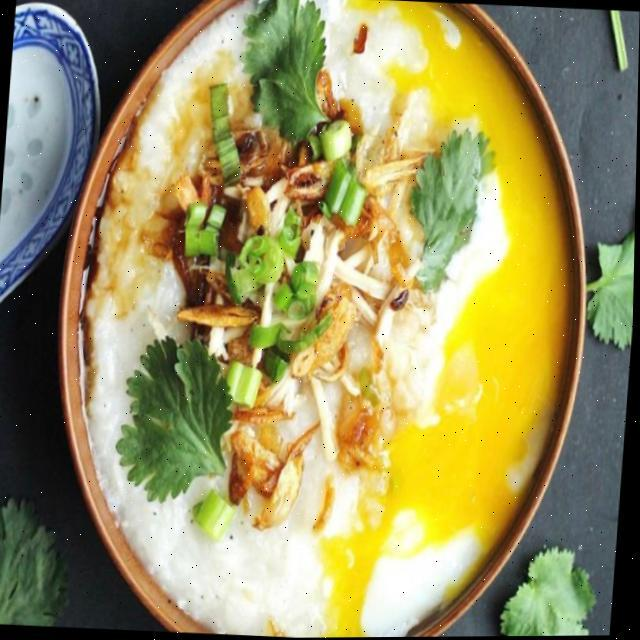bubur ayam: (55, 0, 596, 639)
mangkuk: (41, 0, 609, 640), (0, 2, 108, 316)
